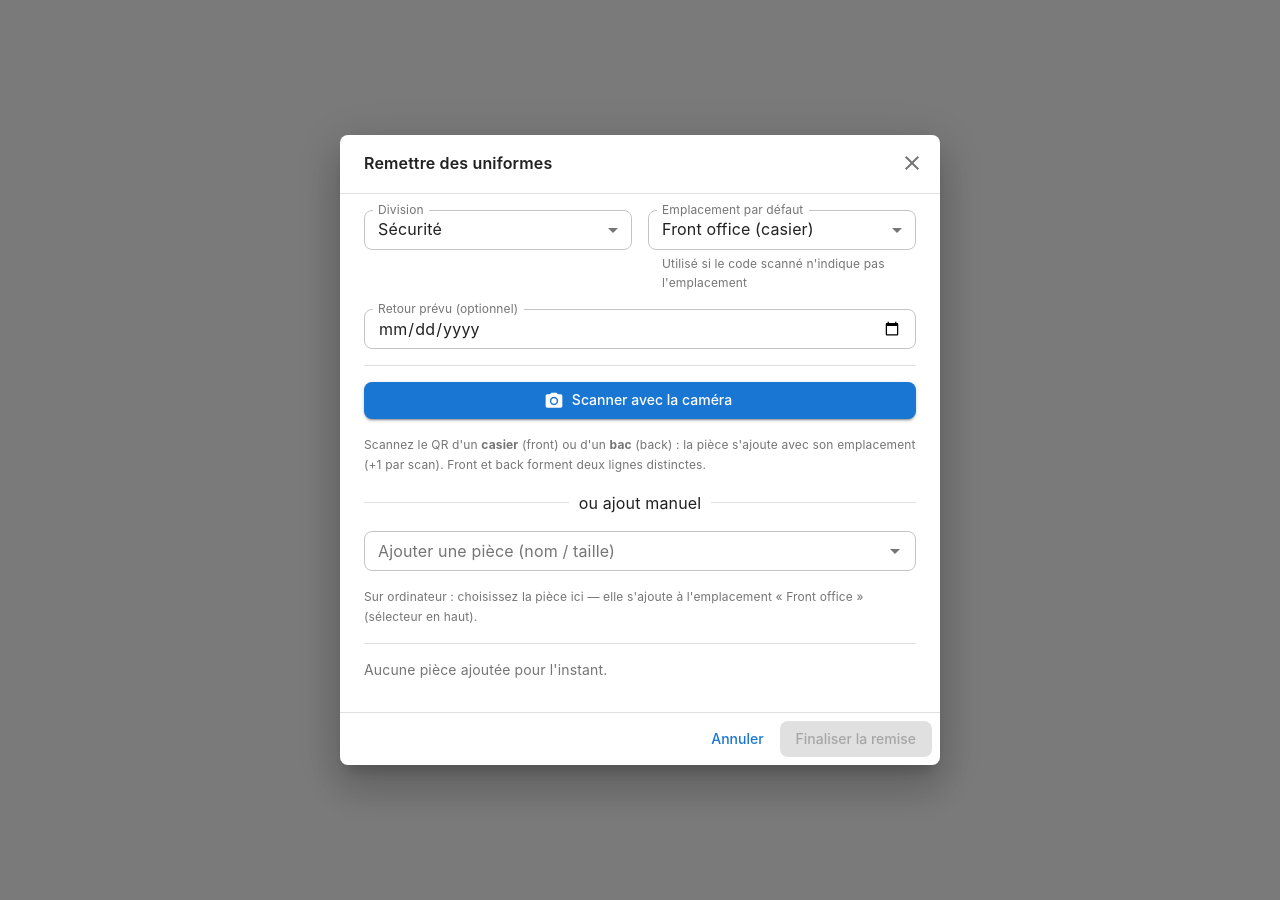
Test: MobileIssuanceSheet › ajoute une pièce via l'autocomplete : la carte apparaît avec le total et active « Finaliser »
What coordinates should you click on to do the following:
click the dropdown labelled "Ajouter une pièce (nom / taille)"
I would click on:
 (624, 551)
Its box is [370,537,877,565].
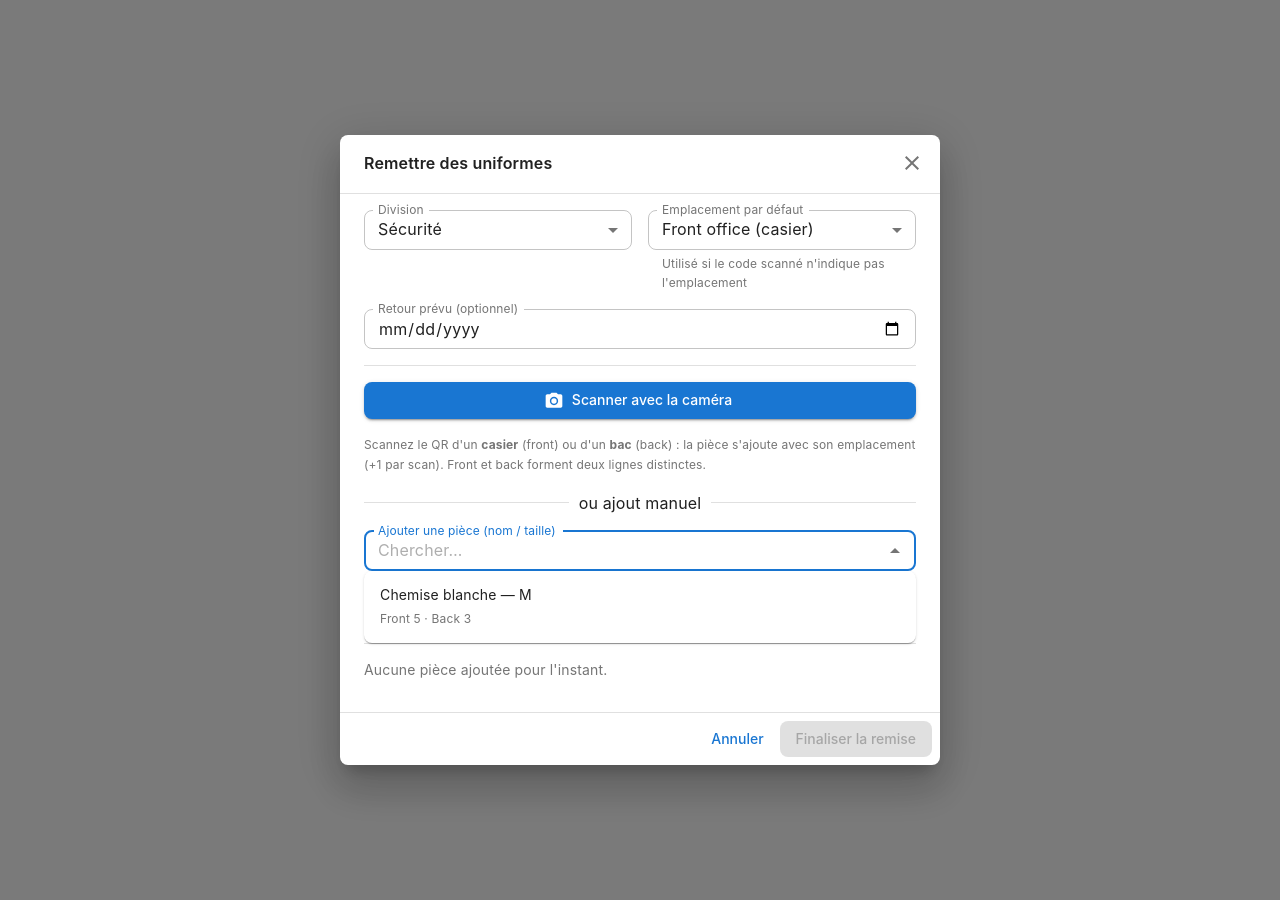
What coordinates should you click on to do the following:
click the text "Chemise blanche — M"
I would click on:
 (456, 595)
Its box is [380,585,532,605].
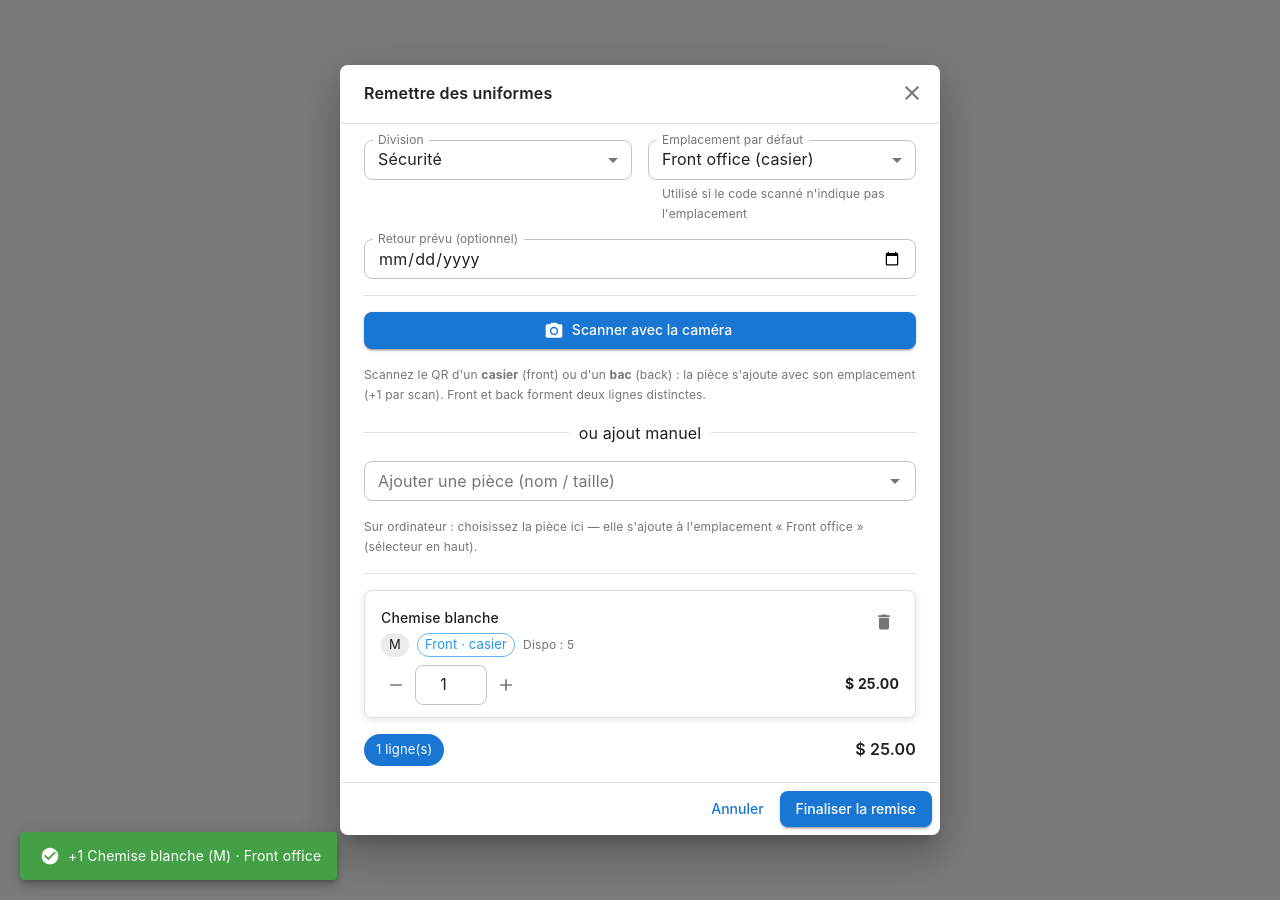
Now the heading "Chemise blanche" is shown, box [381,608,499,626]
Now the text "1 ligne(s)" is shown, box [376,741,432,757]
Now the button "Finaliser la remise" is enabled, box [780,790,932,827]
